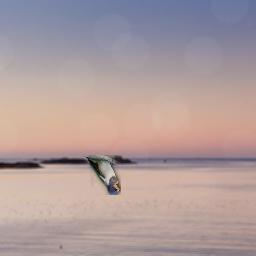Swallow: (84, 155, 121, 195)
